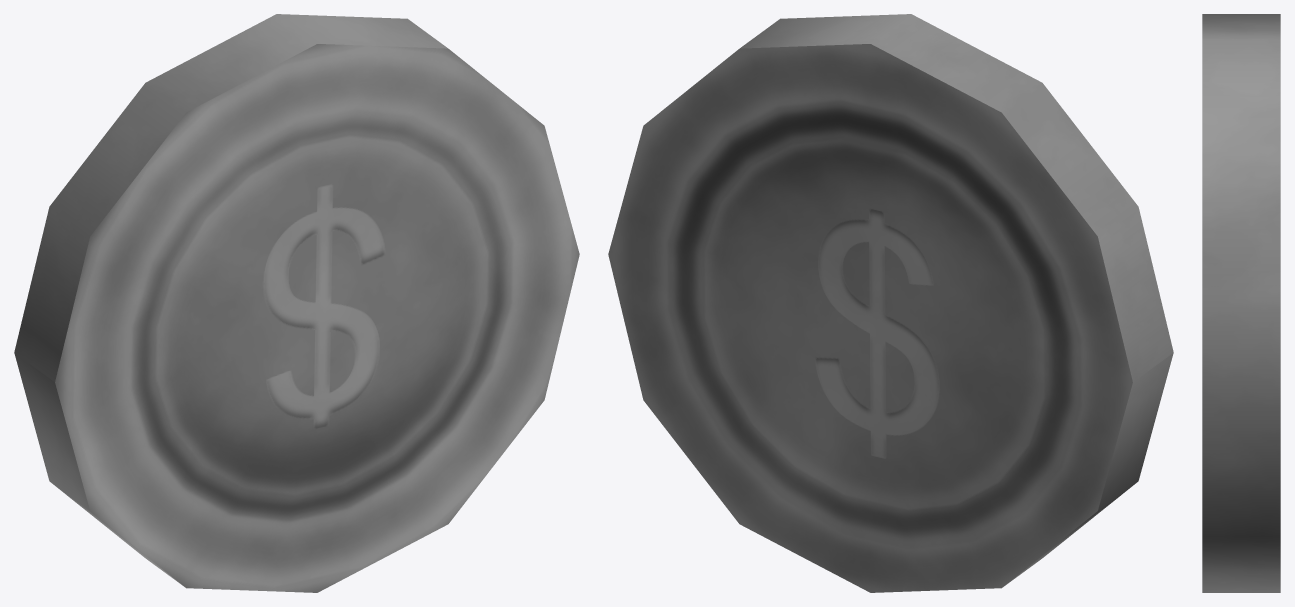
File: CoinSilver_LOD1.fbx
The picture shows the model from 3 angles, left to right: view 1: azimuth 30°, elevation 25°; view 2: azimuth 150°, elevation 25°; view 3: azimuth 270°, elevation 25°; orthographic projection. The views are drawn at different scales.
Parts seen in each view (by area): view 1: Default_Layer; view 2: Default_Layer; view 3: Default_Layer.
Part boxes in pixels (left/top/right/bottom): Default_Layer: left=14, top=14, right=579, bottom=592; Default_Layer: left=608, top=14, right=1173, bottom=592; Default_Layer: left=1202, top=14, right=1280, bottom=592.
Bounding box in the file's own units: 41.6 × 41.6 × 5.6.
